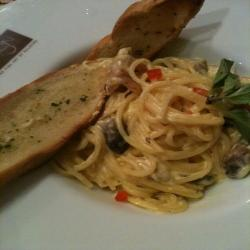bread: (1, 59, 123, 184)
carbonara: (83, 60, 236, 206)
